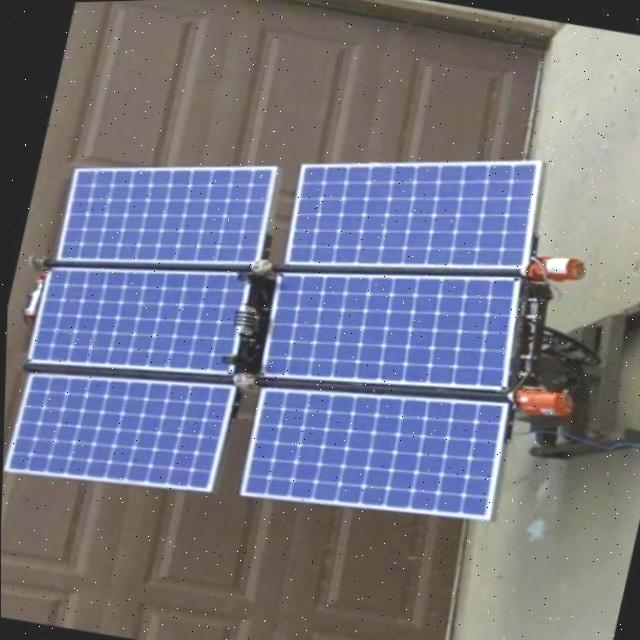Normal Solar Panel: (258, 234, 528, 418), (281, 117, 545, 305), (241, 357, 514, 537), (2, 346, 235, 506), (52, 127, 278, 291), (25, 233, 248, 395)
